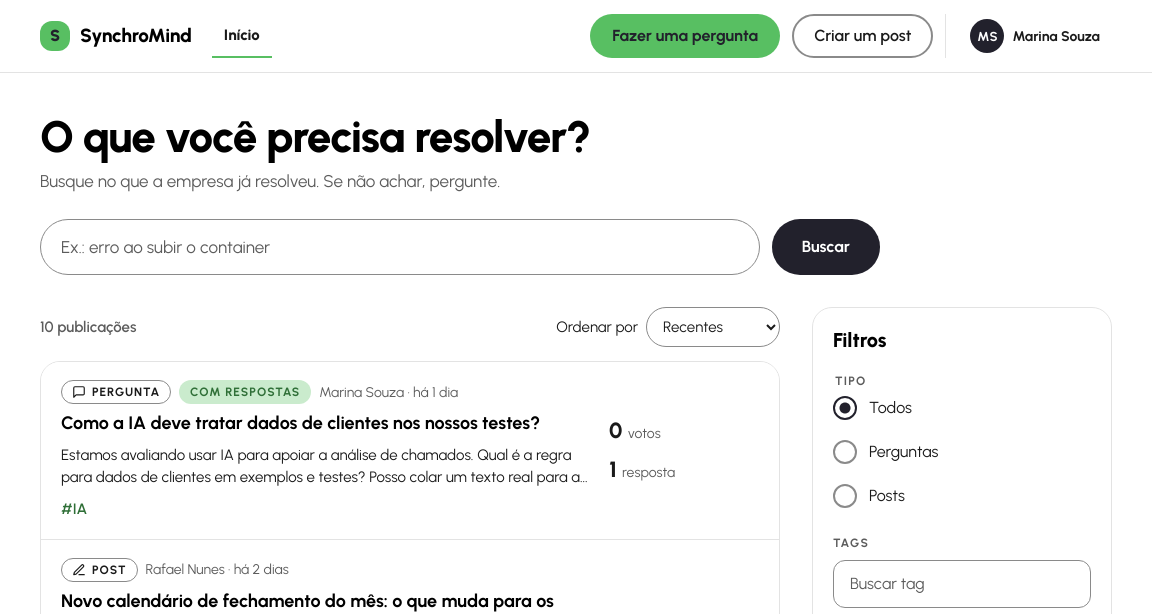
B1 início: busca (HU-10) › guarda busca, tipo e tag na URL para compartilhar (2.4 B1)
The width and height of the screenshot is (1152, 614).
Expected: the heading "O que você precisa resolver?" is shown, [40, 110, 591, 163]
Type "certificado" into the search field named "buscar publicações".
click(400, 247); type("certificado")  # box [40, 219, 760, 275]
Then press Enter
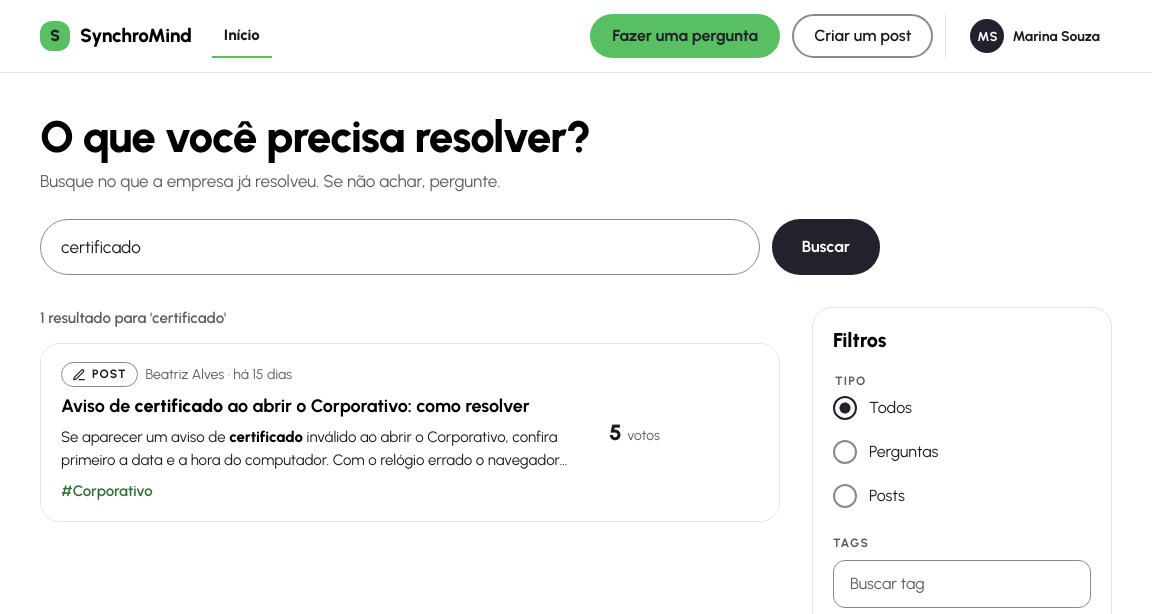
Result: the text "1 resultado para 'certificado'" is shown at [40, 307, 226, 329]
